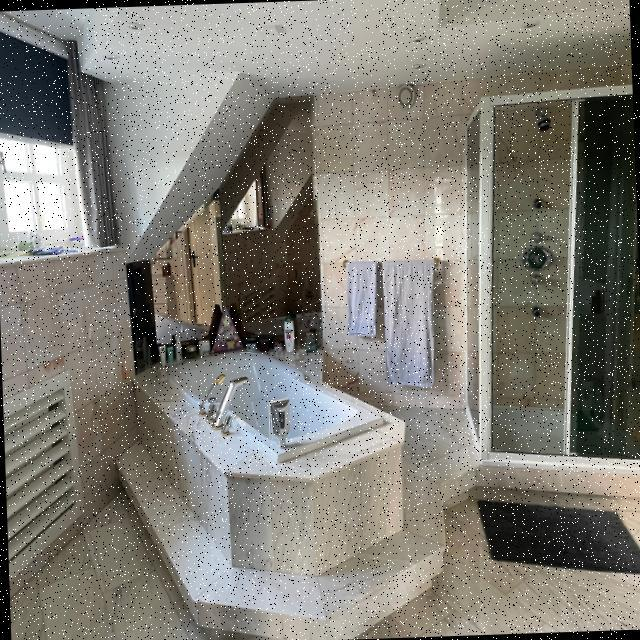bath: (130, 338, 387, 469)
douche: (452, 83, 640, 480)
